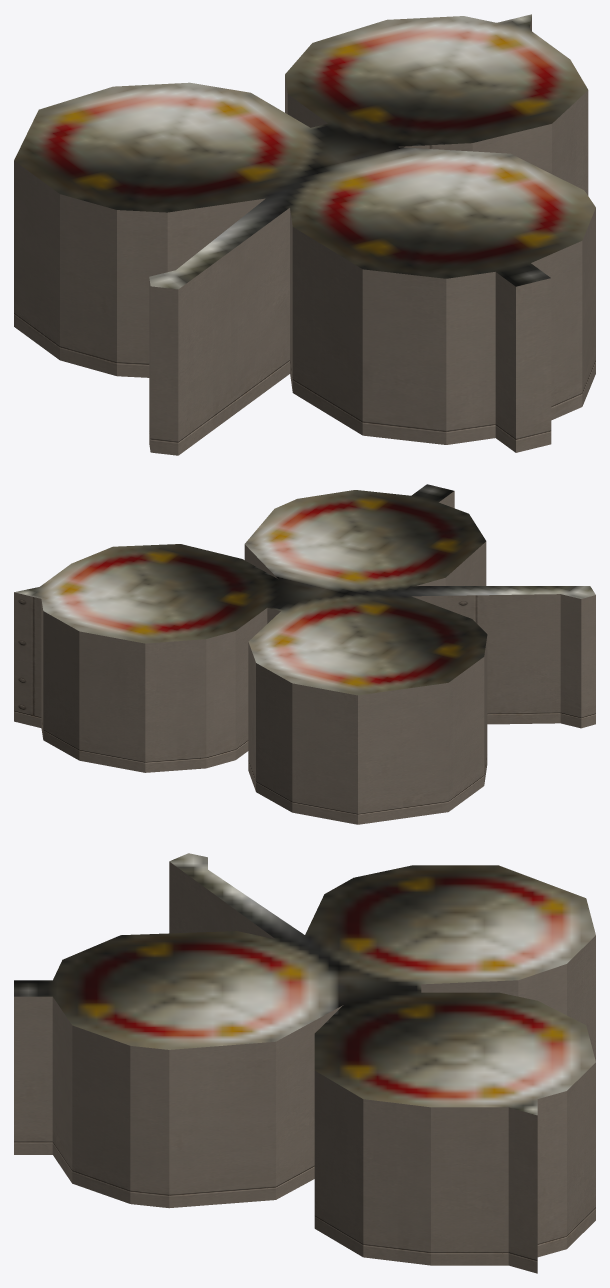
Rendered from fuel_tank_light_26.glb.
3 renders of one model, top to bottom at view 1: azimuth 30°, elevation 25°; view 2: azimuth 150°, elevation 25°; view 3: azimuth 270°, elevation 25°, orthographic. The views are drawn at different scales.
Visible parts, largest first — view 1: buildings/saxarba/fuel_tanks/fuel_tank_light_26; view 2: buildings/saxarba/fuel_tanks/fuel_tank_light_26; view 3: buildings/saxarba/fuel_tanks/fuel_tank_light_26.
Part boxes in pixels (<box>): buildings/saxarba/fuel_tanks/fuel_tank_light_26: <box>14,14,595,455</box>; buildings/saxarba/fuel_tanks/fuel_tank_light_26: <box>14,484,595,824</box>; buildings/saxarba/fuel_tanks/fuel_tank_light_26: <box>14,853,595,1273</box>.
Bounding box in the file's own units: 64 × 18 × 60.
